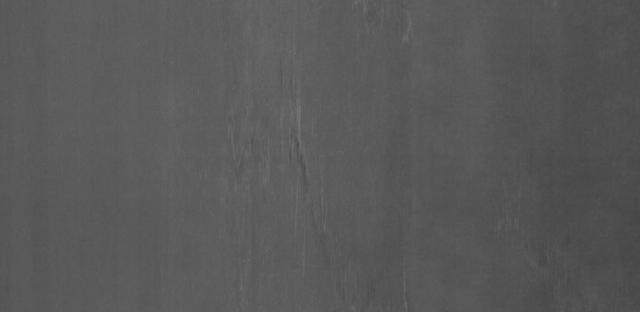silk_spot: (180, 65, 365, 210)
